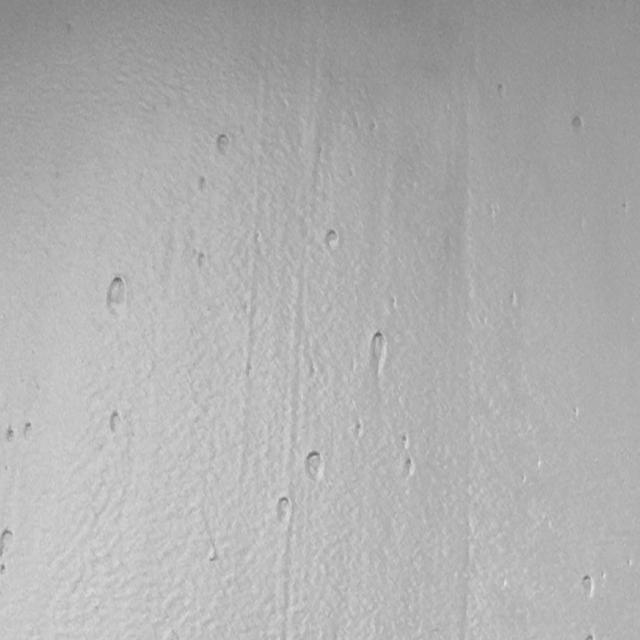pin holes: (104, 273, 132, 320), (366, 332, 390, 371), (303, 449, 327, 484), (274, 495, 294, 525), (106, 410, 128, 437), (579, 571, 598, 600), (212, 132, 233, 158), (0, 529, 18, 559), (321, 228, 341, 254), (567, 115, 587, 140), (505, 288, 523, 312), (402, 458, 417, 480), (196, 175, 210, 198), (4, 426, 20, 446), (195, 252, 210, 273), (495, 82, 510, 102), (23, 420, 37, 440), (350, 420, 364, 438), (570, 404, 584, 422), (367, 119, 380, 138), (62, 20, 75, 37), (400, 433, 412, 451), (518, 471, 530, 488), (389, 295, 401, 312), (619, 199, 631, 214), (624, 555, 635, 570), (0, 563, 9, 580), (584, 630, 598, 640)
